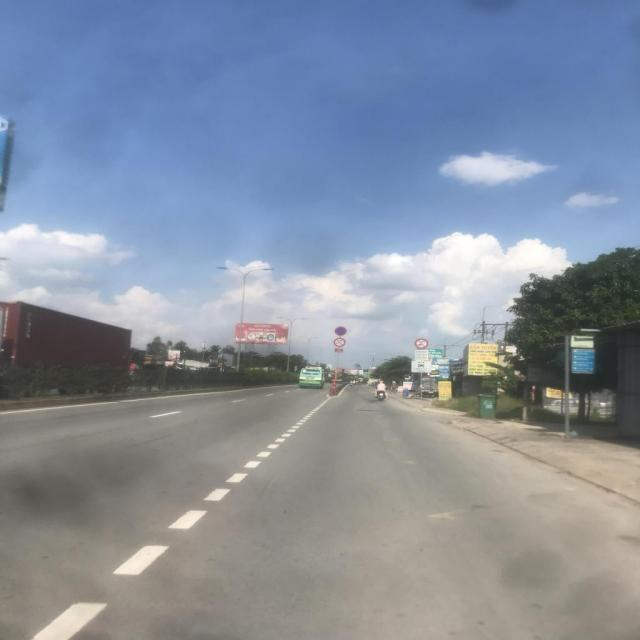cam_dung_xe_va_do_xe: (334, 327, 346, 336)
cam_o_to_tai_va_xe_khach: (415, 338, 429, 349)
cam_xe_2_banh_va_xe_3_banh_co_dong_co: (333, 338, 345, 347)
khac: (411, 360, 431, 372), (415, 350, 429, 360)
